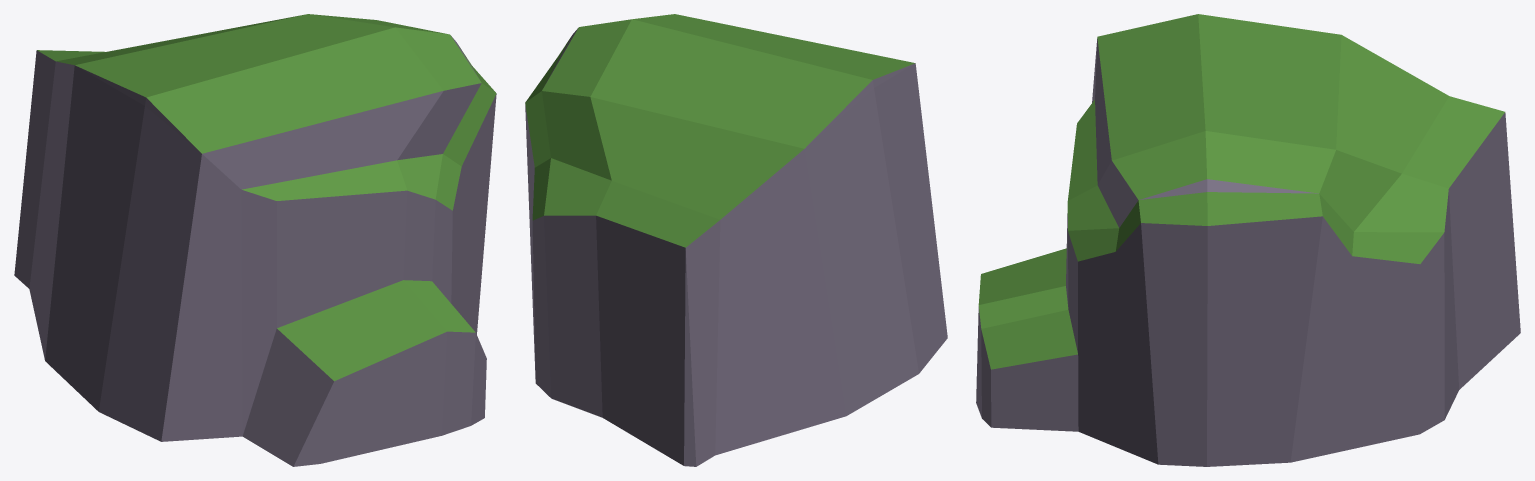
File: Rock_Moss_6.glb
The picture shows the model from 3 angles, left to right: view 1: azimuth 30°, elevation 25°; view 2: azimuth 150°, elevation 25°; view 3: azimuth 270°, elevation 25°; orthographic projection. The views are drawn at different scales.
Visible parts, largest first — view 1: Rock_Moss_6_Cube.027; view 2: Rock_Moss_6_Cube.027; view 3: Rock_Moss_6_Cube.027.
Boxes of the visible parts, box(x1,y1,x2,y2) form: Rock_Moss_6_Cube.027: box(14, 14, 496, 466); Rock_Moss_6_Cube.027: box(525, 14, 947, 466); Rock_Moss_6_Cube.027: box(976, 14, 1520, 466).
Size of the model in its own units: 0.912 by 0.7078 by 1.14.
